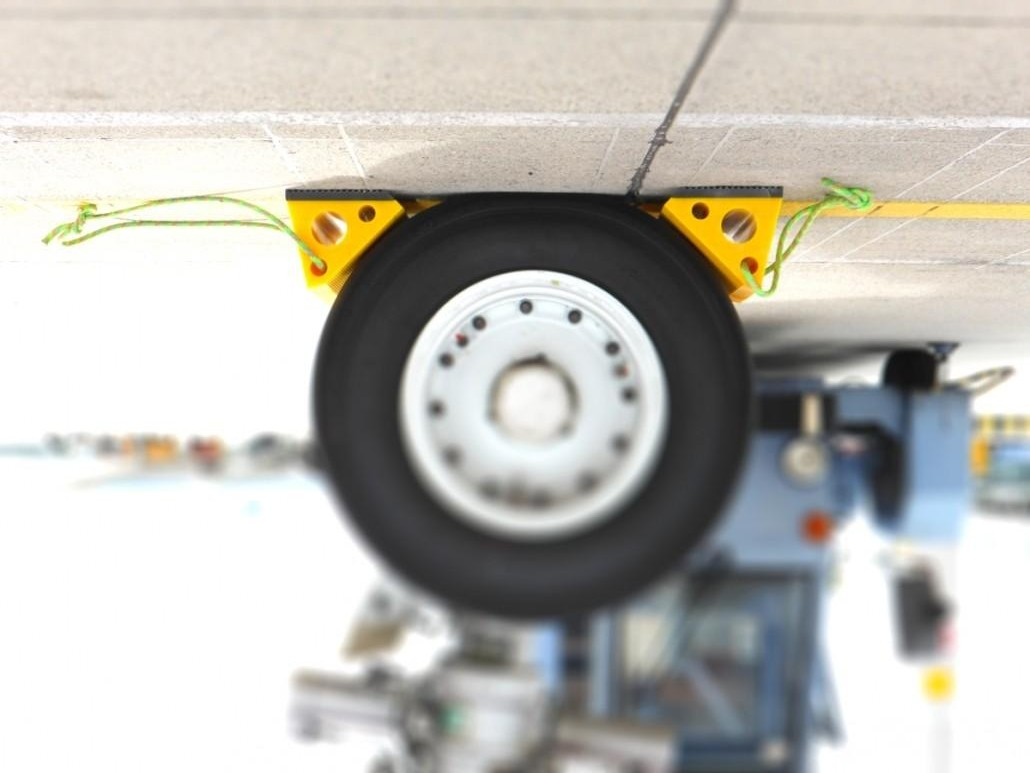chock: (650, 189, 787, 303), (283, 190, 413, 308)
wheel: (316, 194, 745, 619), (883, 350, 938, 392)
